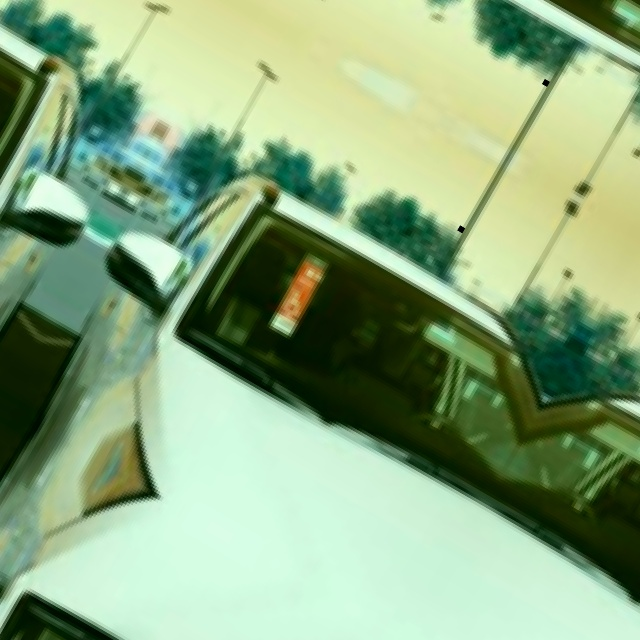ISA: (281, 287, 308, 318)
